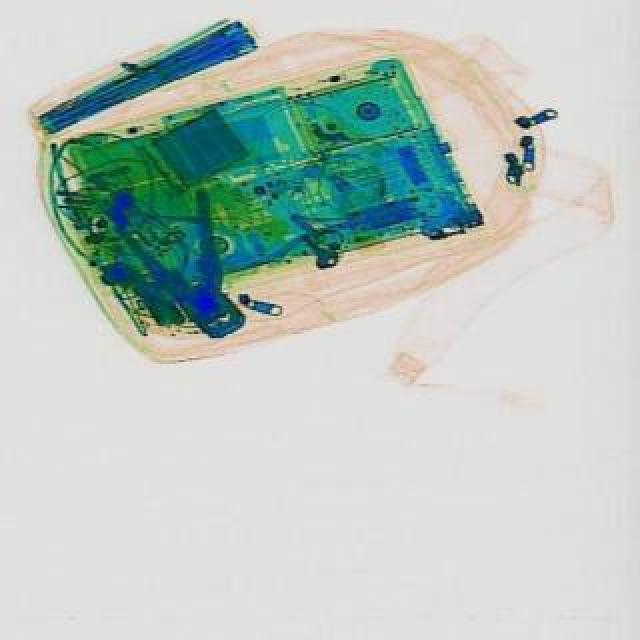wrench: (116, 186, 284, 358)
